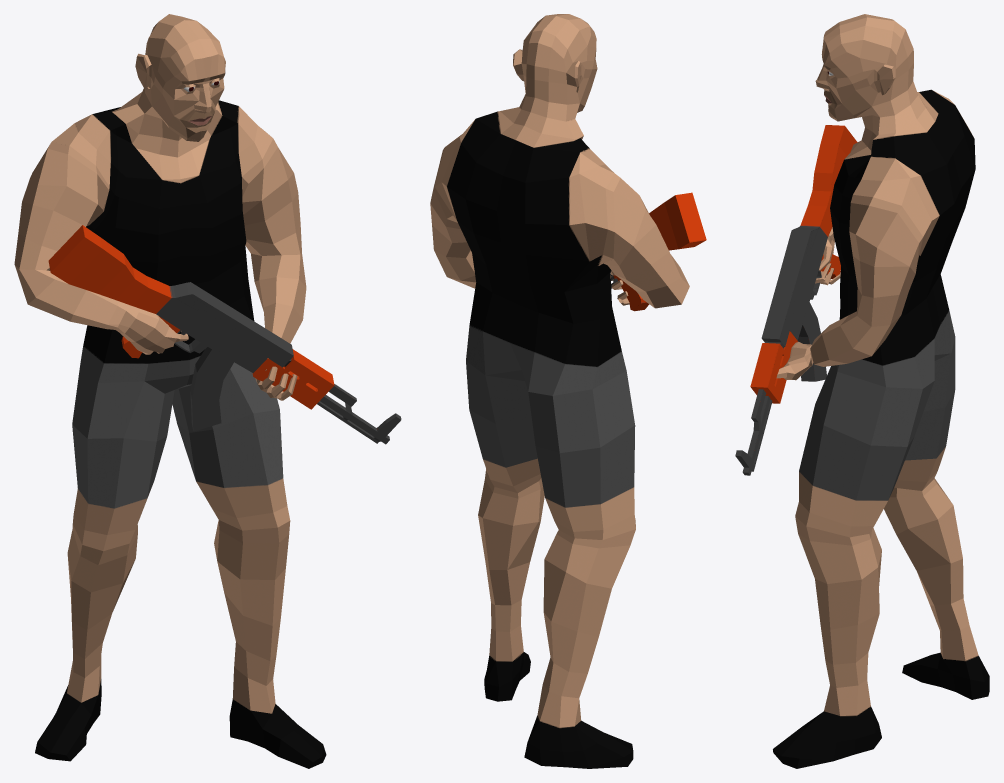
The model's file is PlayerIdle(194).obj.
3 renders of one model, left to right at view 1: azimuth 30°, elevation 25°; view 2: azimuth 150°, elevation 25°; view 3: azimuth 270°, elevation 25°, orthographic. The views are drawn at different scales.
Parts seen in each view (by area): view 1: Plane002, Object001; view 2: Plane002, Object001; view 3: Plane002, Object001.
Part boxes in pixels (x1,y1,x2,y2): Plane002: (14,14,326,768); Object001: (48,225,401,444); Plane002: (430,14,689,768); Object001: (610,192,706,311); Plane002: (773,14,989,768); Object001: (735,125,857,475).
Size of the model in its own units: 767 by 1799 by 591.
